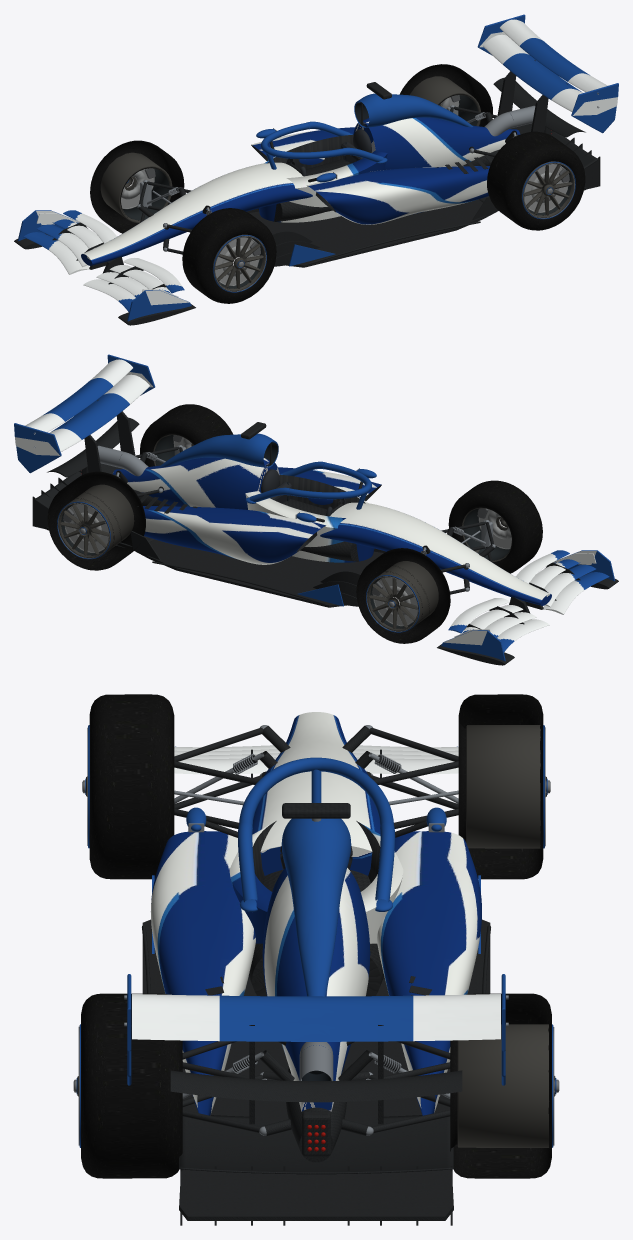
The model's file is formula.glb.
The picture shows the model from 3 angles, top to bottom: view 1: azimuth 30°, elevation 25°; view 2: azimuth 150°, elevation 25°; view 3: azimuth 270°, elevation 25°; orthographic projection. The views are drawn at different scales.
Parts seen in each view (by area): view 1: object 1, object 4, object 63, object 51; view 2: object 1, object 4, object 63, object 51; view 3: object 1, object 63, object 4.
Part boxes in pixels (<box>): object 1: <box>14,14,618,325</box>; object 4: <box>36,19,617,305</box>; object 63: <box>90,64,585,303</box>; object 51: <box>286,129,371,176</box>; object 1: <box>14,354,618,665</box>; object 4: <box>15,359,596,645</box>; object 63: <box>47,404,542,643</box>; object 51: <box>261,469,346,516</box>; object 1: <box>76,712,556,1225</box>; object 63: <box>73,694,559,1178</box>; object 4: <box>132,745,500,1115</box>.
Size of the model in its own units: 5.39 by 1.31 by 2.26.
16 materials, 4 textured.
